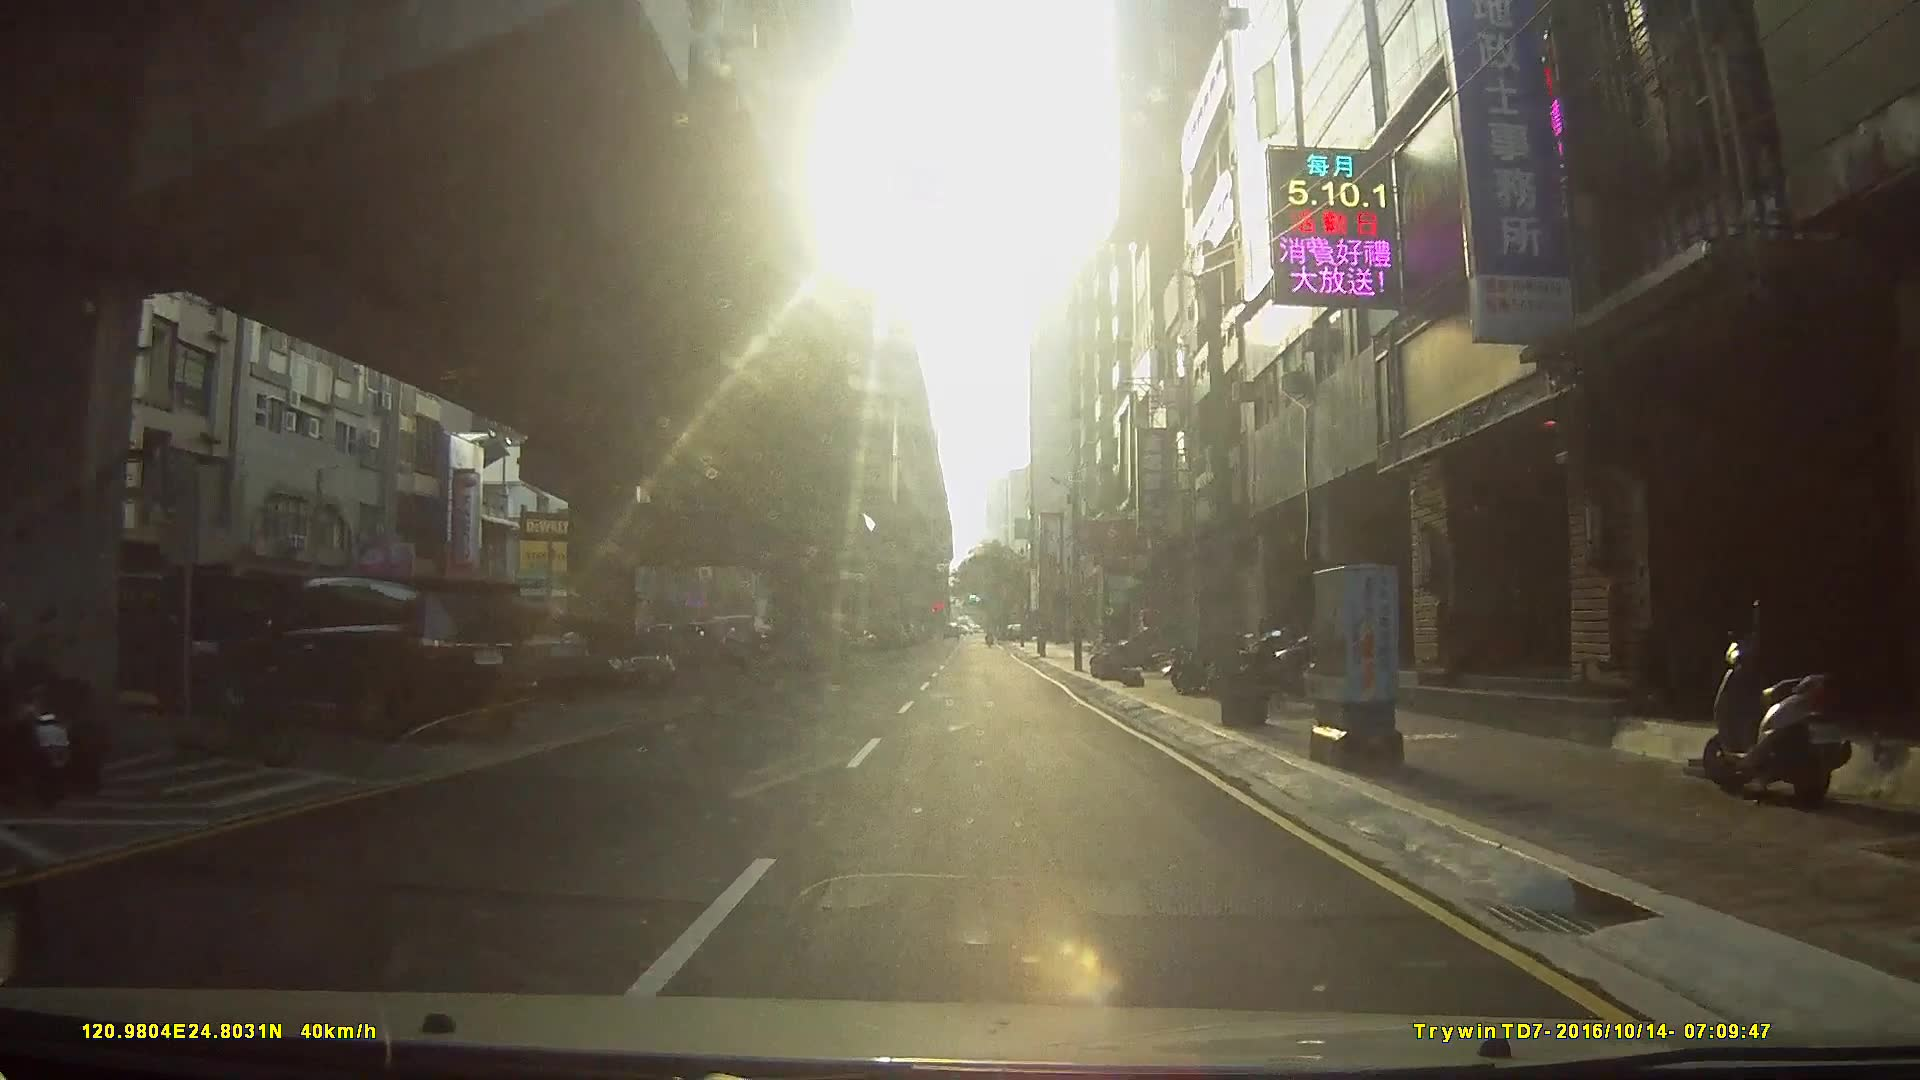vehicle: (206, 572, 533, 740), (70, 568, 280, 711), (549, 620, 676, 696)
